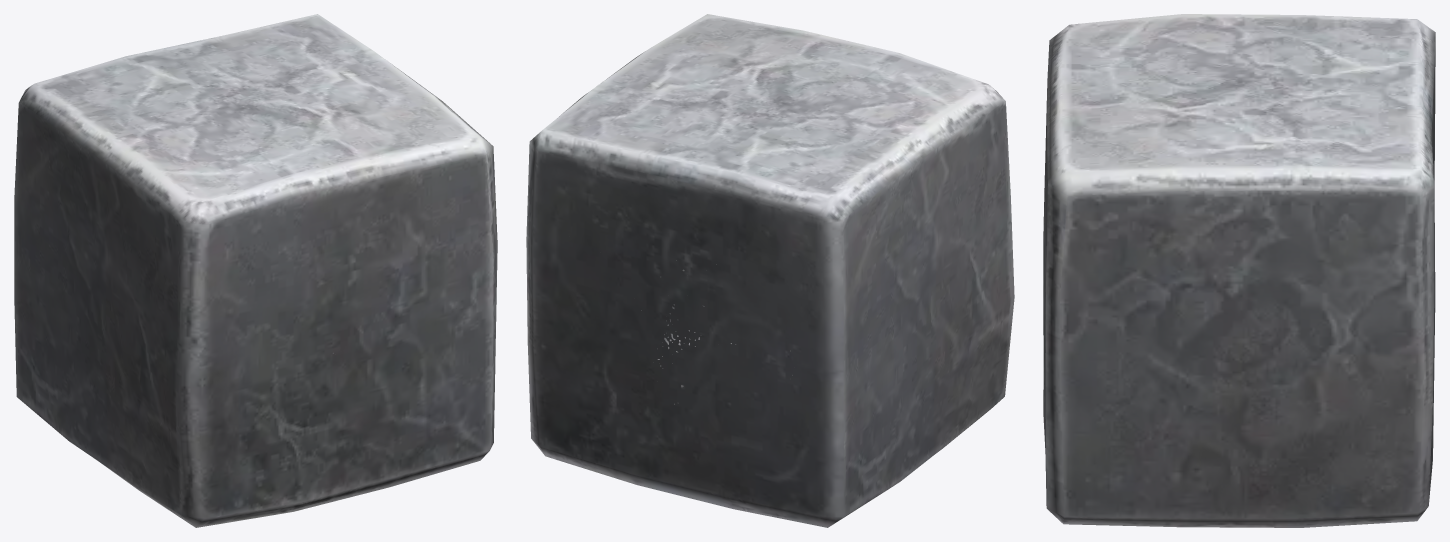
The picture shows the model from 3 angles, left to right: view 1: azimuth 30°, elevation 25°; view 2: azimuth 150°, elevation 25°; view 3: azimuth 270°, elevation 25°; orthographic projection. The views are drawn at different scales.
Parts seen in each view (by area): view 1: SM_Block_Stone_LOD0; view 2: SM_Block_Stone_LOD0; view 3: SM_Block_Stone_LOD0.
Part boxes in pixels (box(x1,y1,x2,y2)): SM_Block_Stone_LOD0: box(14, 14, 497, 527); SM_Block_Stone_LOD0: box(526, 14, 1014, 527); SM_Block_Stone_LOD0: box(1043, 14, 1435, 527).
Size of the model in its own units: 0.2568 by 0.2579 by 0.2514.
Materials: 1 (1 with a texture image).
